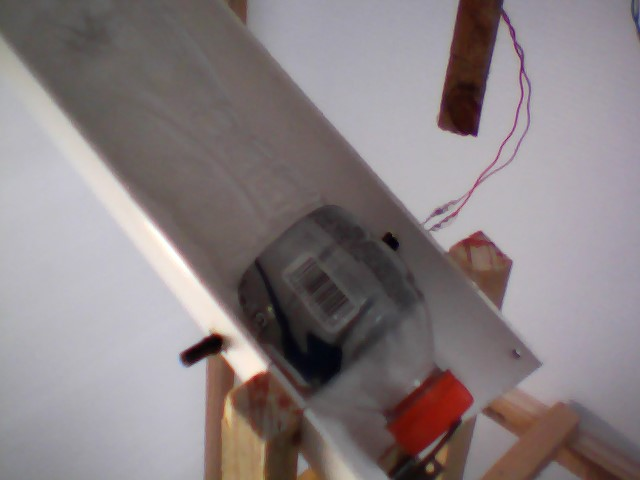plastico: (20, 1, 482, 458)
